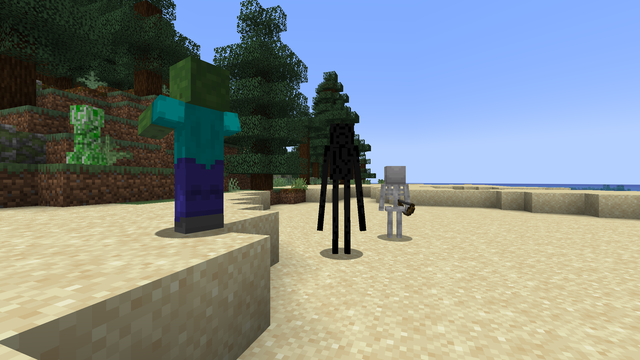creepers: (67, 100, 106, 151)
endermens: (324, 117, 357, 257)
squelettes: (382, 166, 405, 240)
zombies: (160, 58, 235, 235)
